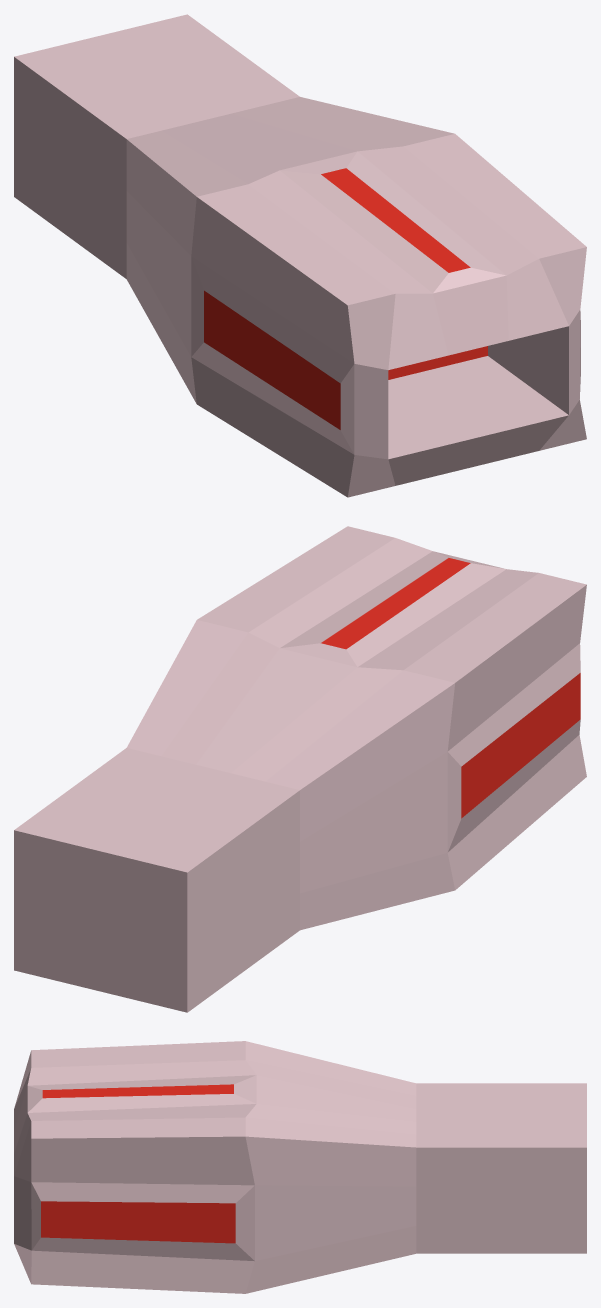
File: ShotgunTestWeapon.fbx
The picture shows the model from 3 angles, top to bottom: view 1: azimuth 30°, elevation 25°; view 2: azimuth 150°, elevation 25°; view 3: azimuth 270°, elevation 25°; orthographic projection. The views are drawn at different scales.
Visible parts, largest first — view 1: Cube; view 2: Cube; view 3: Cube.
Boxes of the visible parts, left/top/right/bottom form: Cube: left=14, top=14, right=586, bottom=497; Cube: left=14, top=526, right=586, bottom=1012; Cube: left=14, top=1041, right=586, bottom=1293.
Size of the model in its own units: 132 by 102 by 336.
